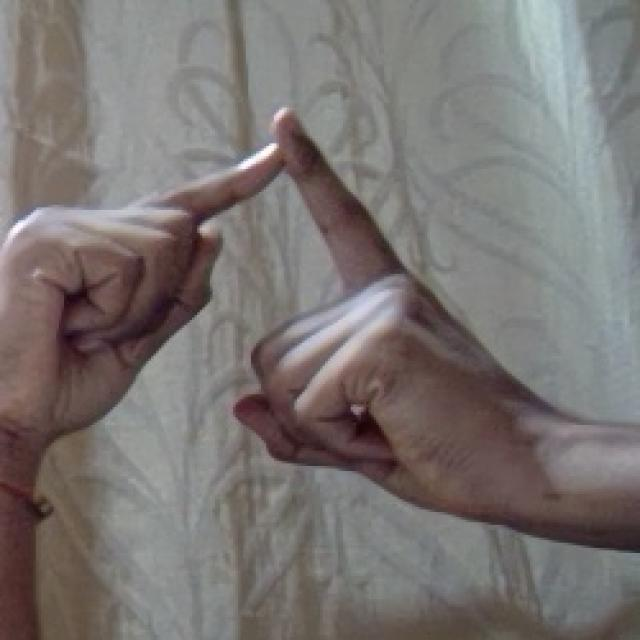Alphabet-E: (0, 113, 640, 640)
